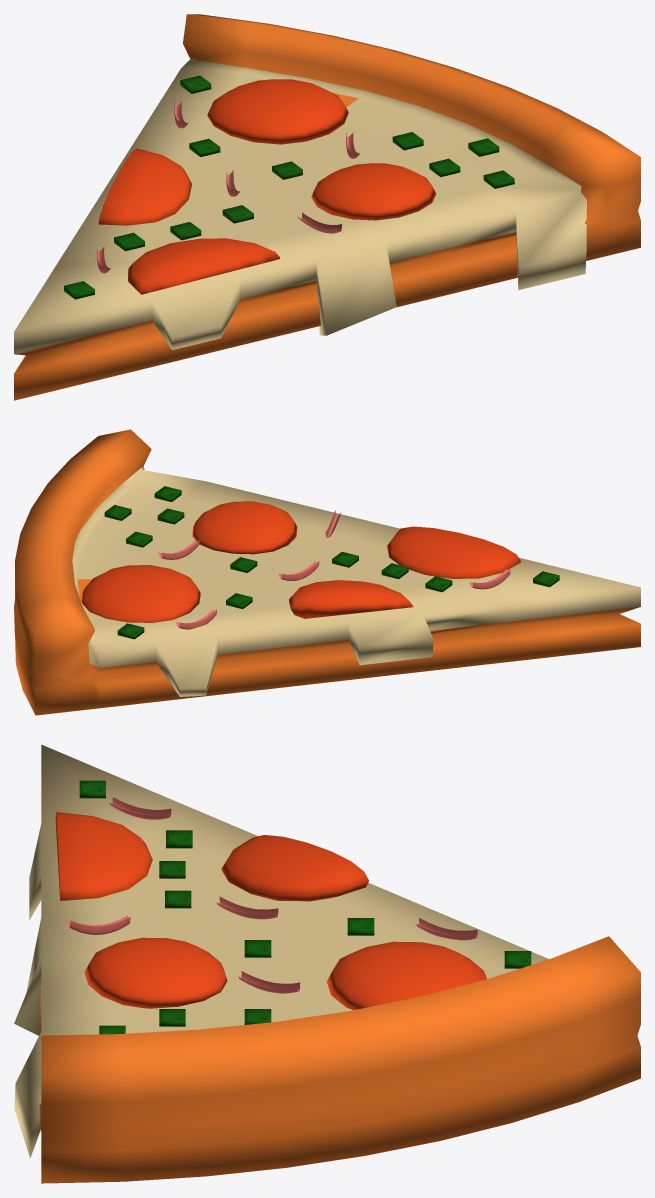
File: pizza.gltf
The picture shows the model from 3 angles, top to bottom: view 1: azimuth 30°, elevation 25°; view 2: azimuth 150°, elevation 25°; view 3: azimuth 270°, elevation 25°; orthographic projection. The views are drawn at different scales.
Visible parts, largest first — view 1: Circle, Cube.004, Cube.007, SurfPatch; view 2: Circle, Cube.004, Cube.007, SurfPatch; view 3: Circle, Cube.004, Cube.007, SurfPatch.
Boxes of the visible parts, box(x1,y1,x2,y2) form: Circle: box(14, 14, 640, 400); Cube.004: box(98, 79, 436, 294); Cube.007: box(64, 75, 514, 299); SurfPatch: box(97, 100, 359, 273); Circle: box(14, 429, 640, 715); Cube.004: box(82, 501, 520, 622); Cube.007: box(104, 486, 559, 639); SurfPatch: box(158, 510, 510, 629); Circle: box(14, 744, 640, 1183); Cube.004: box(55, 812, 486, 1010); Cube.007: box(79, 780, 531, 1034); SurfPatch: box(67, 797, 477, 993).
Bounding box in the file's own units: 0.9024 × 0.1658 × 0.6671.
